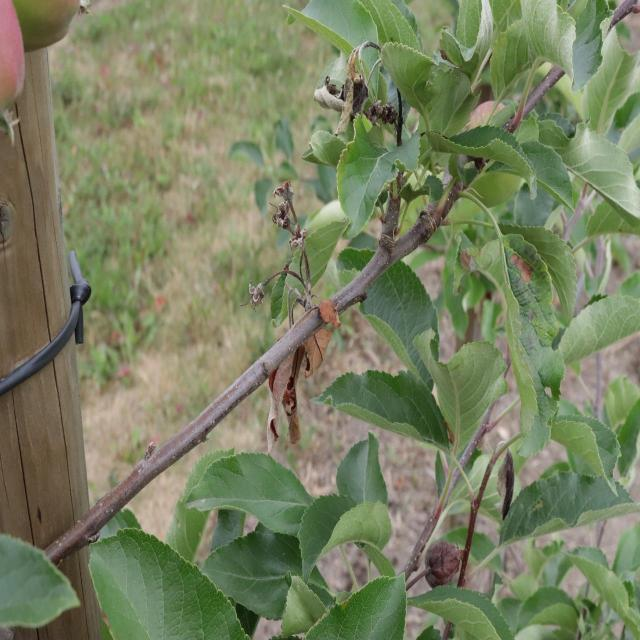-FireBlight-: (262, 308, 328, 433)
